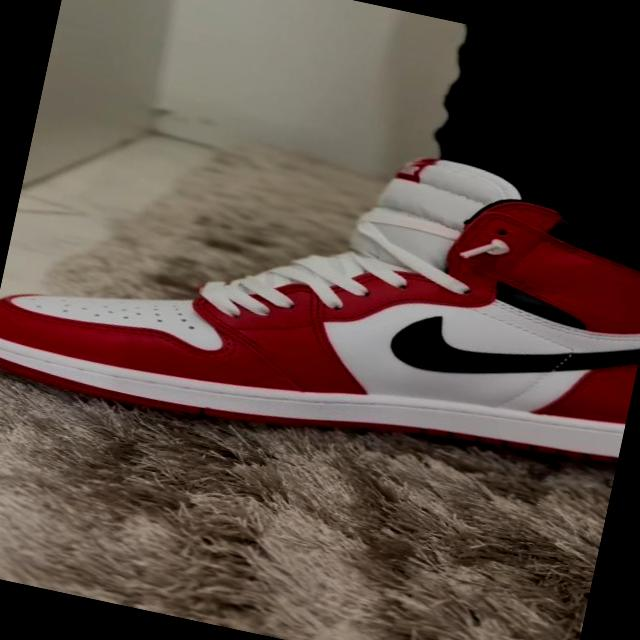nike_original_jordan: (0, 68, 640, 508)
